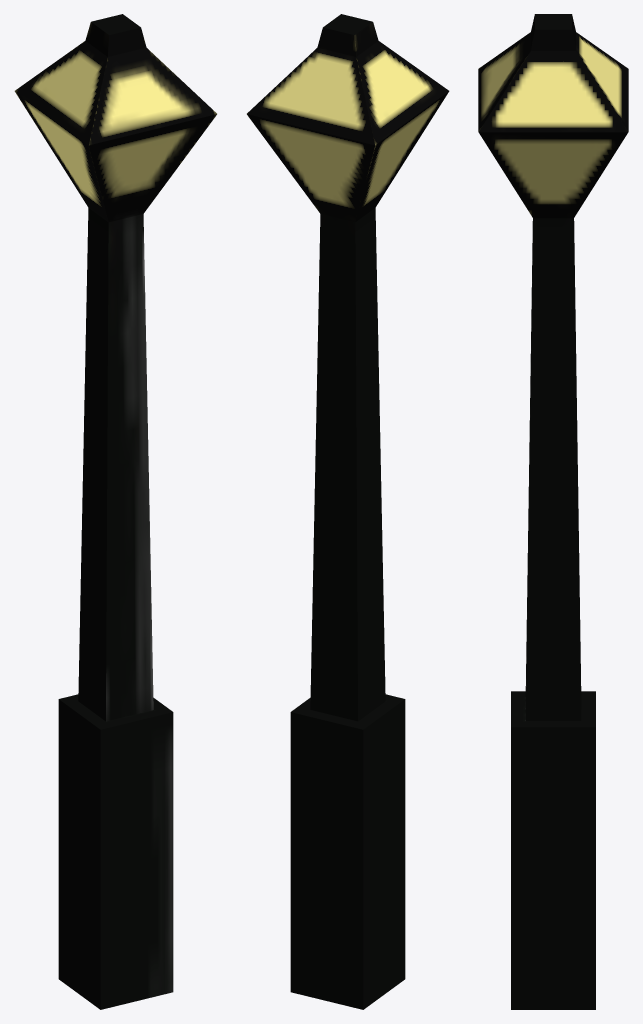
The model's file is Lampione.fbx.
3 views of the same model, side by side, from view 1: azimuth 30°, elevation 25°; view 2: azimuth 150°, elevation 25°; view 3: azimuth 270°, elevation 25° (orthographic).
Visible parts, largest first — view 1: Lampione.002; view 2: Lampione.002; view 3: Lampione.002.
Part boxes in pixels (bbox=[...]): Lampione.002: bbox=[14, 14, 216, 1009]; Lampione.002: bbox=[247, 14, 449, 1009]; Lampione.002: bbox=[478, 14, 628, 1009].
Bounding box in the file's own units: 22.62 × 161 × 22.62.
